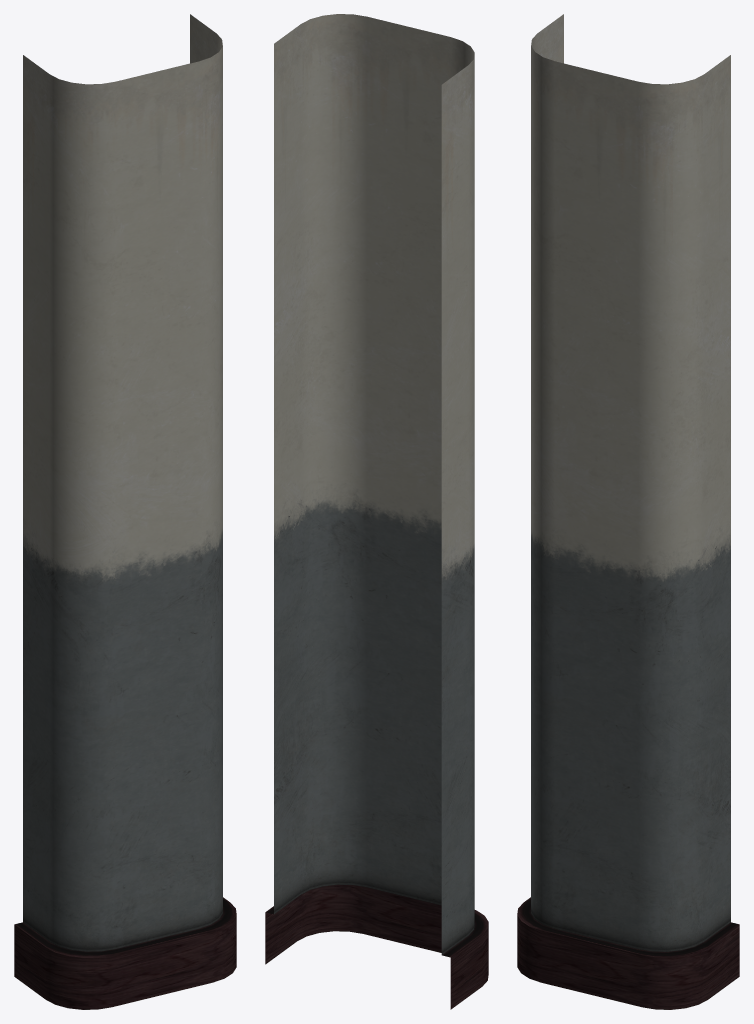
File: Wall 4 Pillar.fbx
3 renders of one model, left to right at view 1: azimuth 30°, elevation 25°; view 2: azimuth 150°, elevation 25°; view 3: azimuth 330°, elevation 25°, orthographic.
Visible parts, largest first — view 1: Wall_4_Pillar; view 2: Wall_4_Pillar; view 3: Wall_4_Pillar.
Part boxes in pixels (x1,y1,x2,y2): Wall_4_Pillar: [14, 14, 236, 1009]; Wall_4_Pillar: [265, 14, 488, 1009]; Wall_4_Pillar: [517, 14, 739, 1009].
Size of the model in its own units: 63 by 300 by 33.
